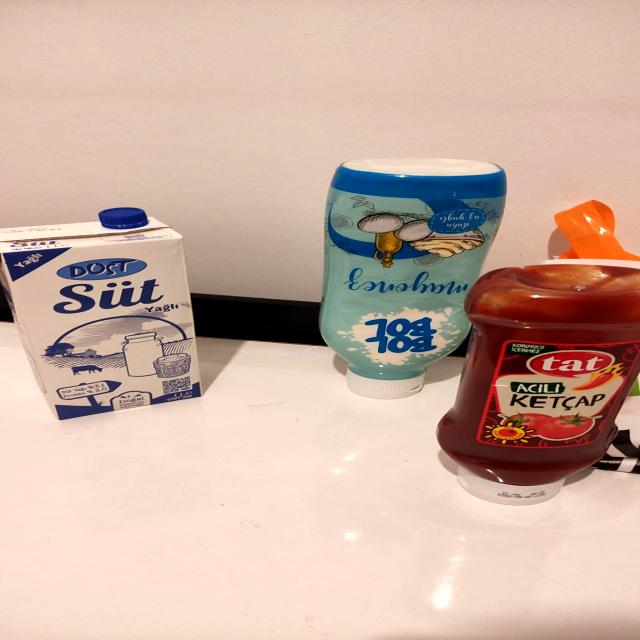ketchup: (449, 259, 640, 503)
mayonnaise: (322, 157, 501, 399)
milk: (2, 204, 209, 420)
